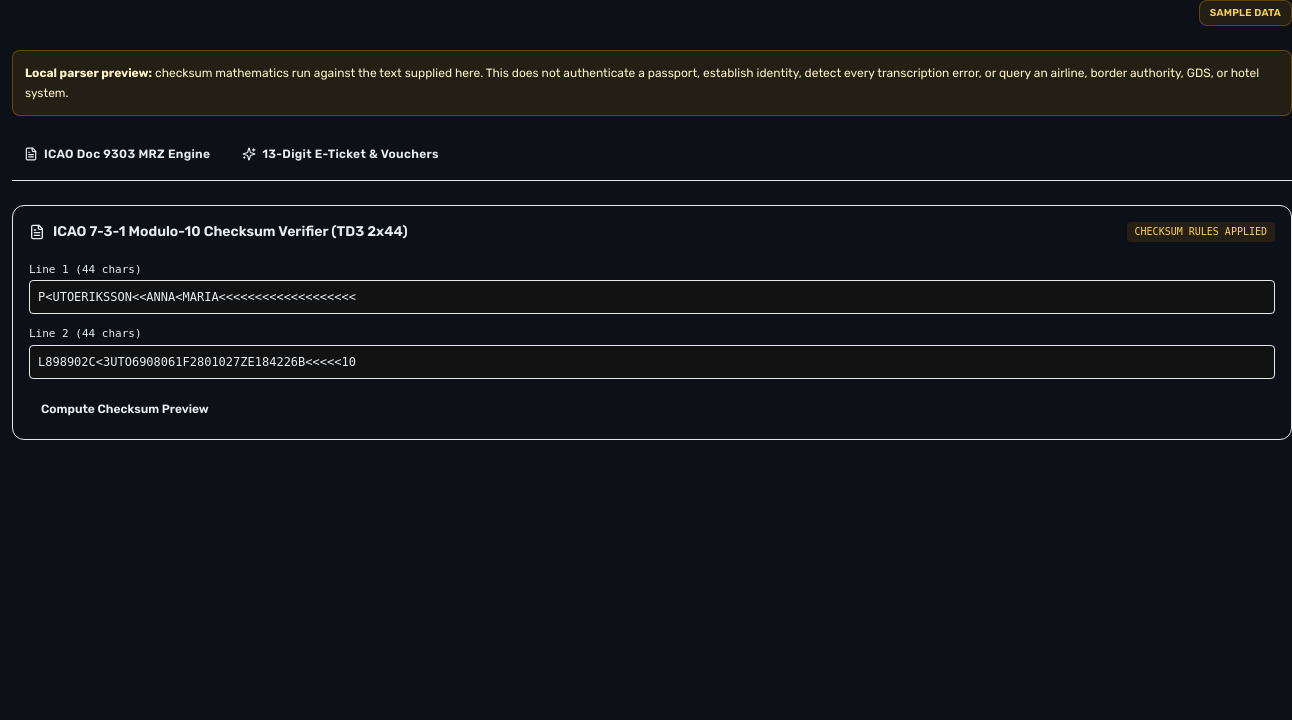
Test: DocumentMRZPanel truth boundary › does not fabricate a passport result when the parser is unavailable
This screenshot has width=1292, height=720.
Click the button "Compute Checksum Preview".
click(125, 409)  # box [29, 395, 221, 423]
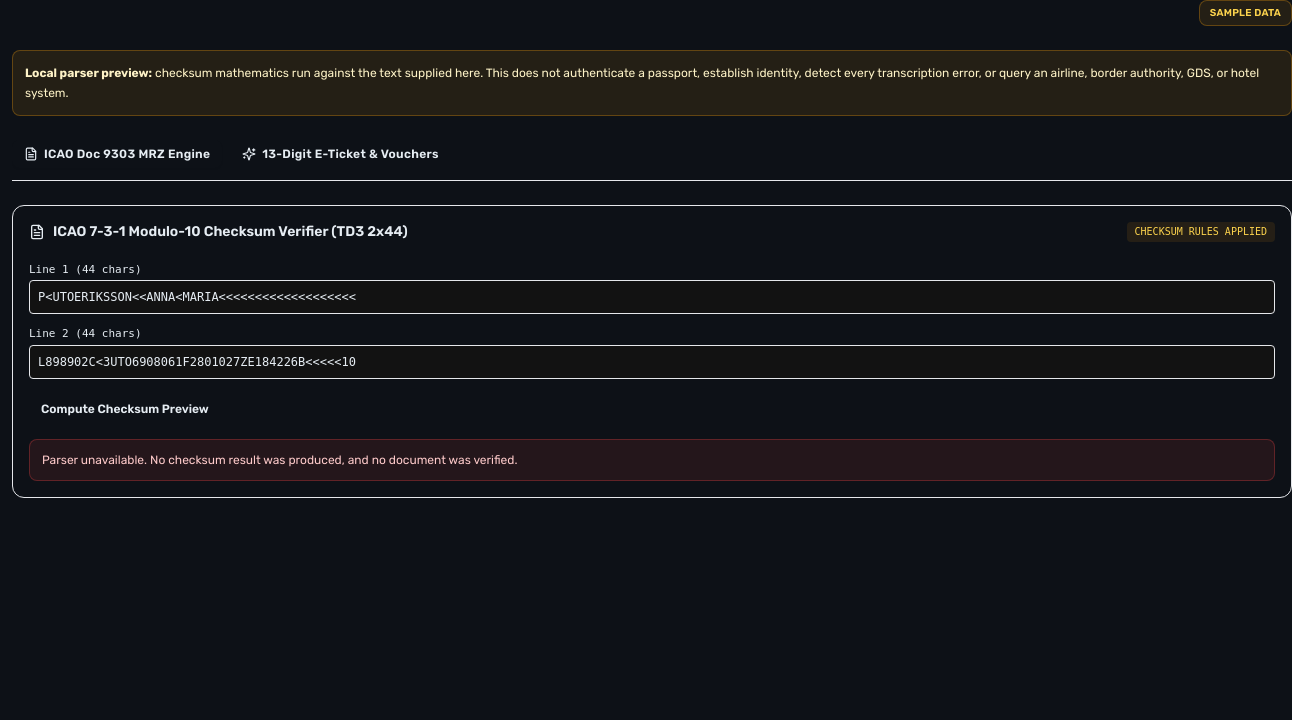
Check: the message shows "No checksum result was produced", box [42, 453, 518, 467]
